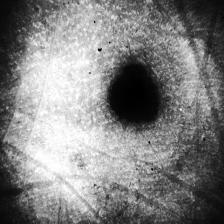Benign Marking or Mole: (101, 51, 171, 128)
